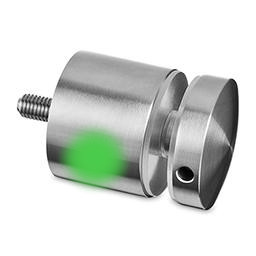focus: (59, 126, 131, 184)
